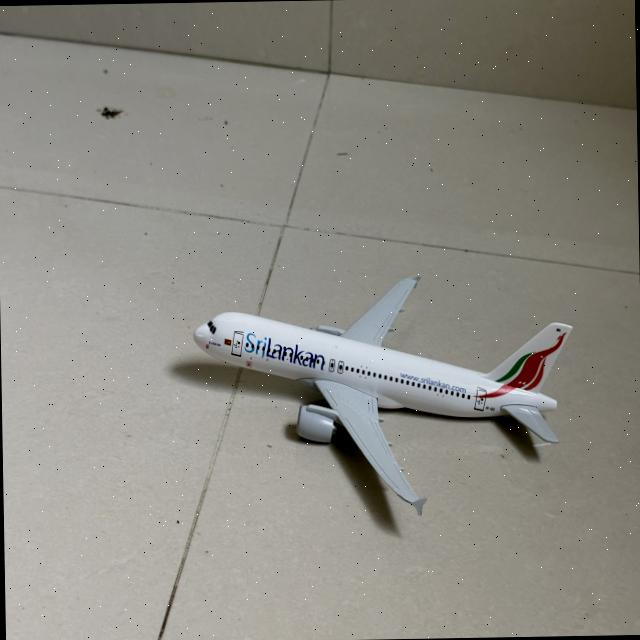air-plane: (193, 276, 571, 514)
